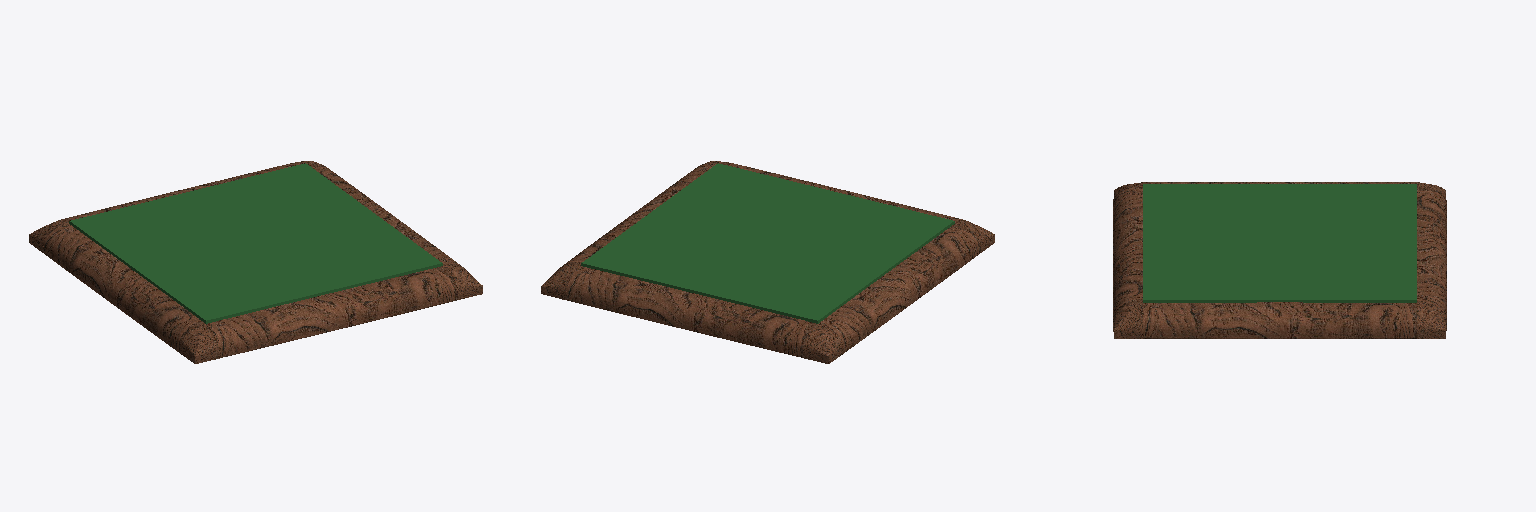
The picture shows the model from 3 angles: view 1: azimuth 30°, elevation 25°; view 2: azimuth 150°, elevation 25°; view 3: azimuth 270°, elevation 25°; orthographic projection.
Visible parts, largest first — view 1: s.0073, p.0109, s.0112; view 2: s.0073, p.0109, s.0112; view 3: s.0073, p.0109, s.0112.
Part boxes in pixels (x1,y1,x2,y2): s.0073: (69, 163, 442, 323); p.0109: (43, 162, 459, 357); s.0112: (29, 161, 482, 363); s.0073: (581, 163, 954, 323); p.0109: (563, 162, 980, 357); s.0112: (541, 161, 994, 363); s.0073: (1143, 184, 1416, 302); p.0109: (1113, 182, 1446, 338); s.0112: (1113, 182, 1446, 338).
Size of the model in its own units: 0.9519 by 0.088 by 0.9519.
Materials: 2 (2 with a texture image).